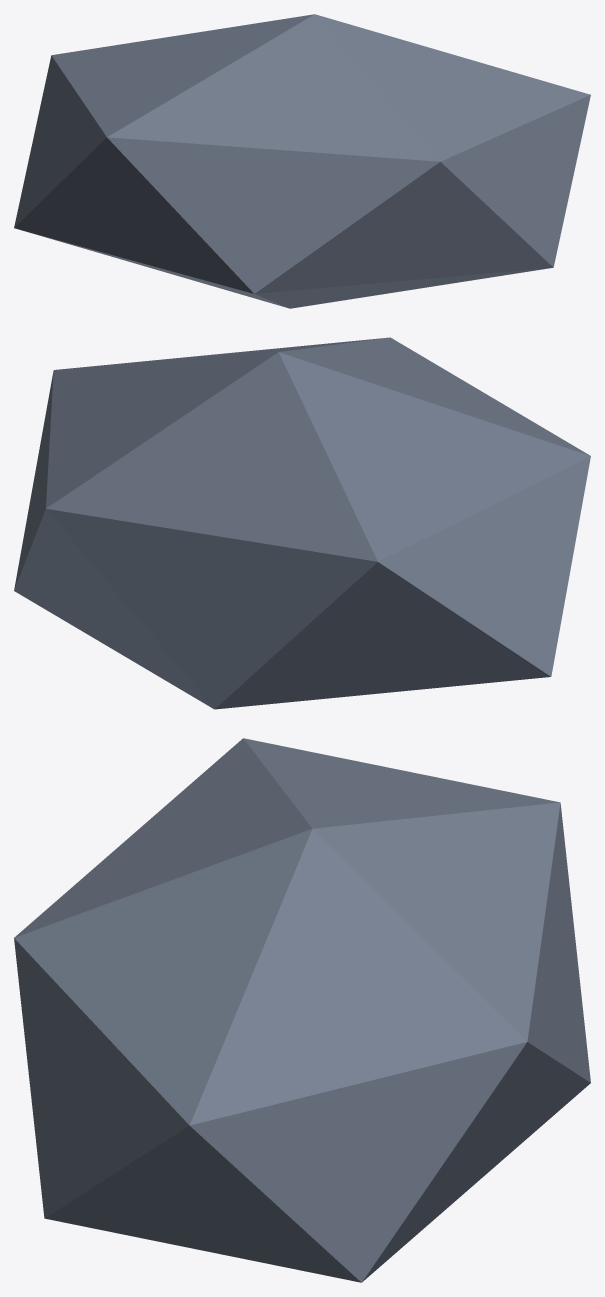
File: EXT_SideScarp_East_01.glb
3 renders of one model, top to bottom at view 1: azimuth 30°, elevation 25°; view 2: azimuth 150°, elevation 25°; view 3: azimuth 270°, elevation 25°, orthographic. The views are drawn at different scales.
Visible parts, largest first — view 1: EXT_SideScarp_East_01; view 2: EXT_SideScarp_East_01; view 3: EXT_SideScarp_East_01.
Boxes of the visible parts, x1,y1,x2,y2 form: EXT_SideScarp_East_01: (14, 14, 590, 308); EXT_SideScarp_East_01: (14, 337, 590, 709); EXT_SideScarp_East_01: (14, 738, 590, 1282).
Bounding box in the file's own units: 3.06 × 1.67 × 2.26.
